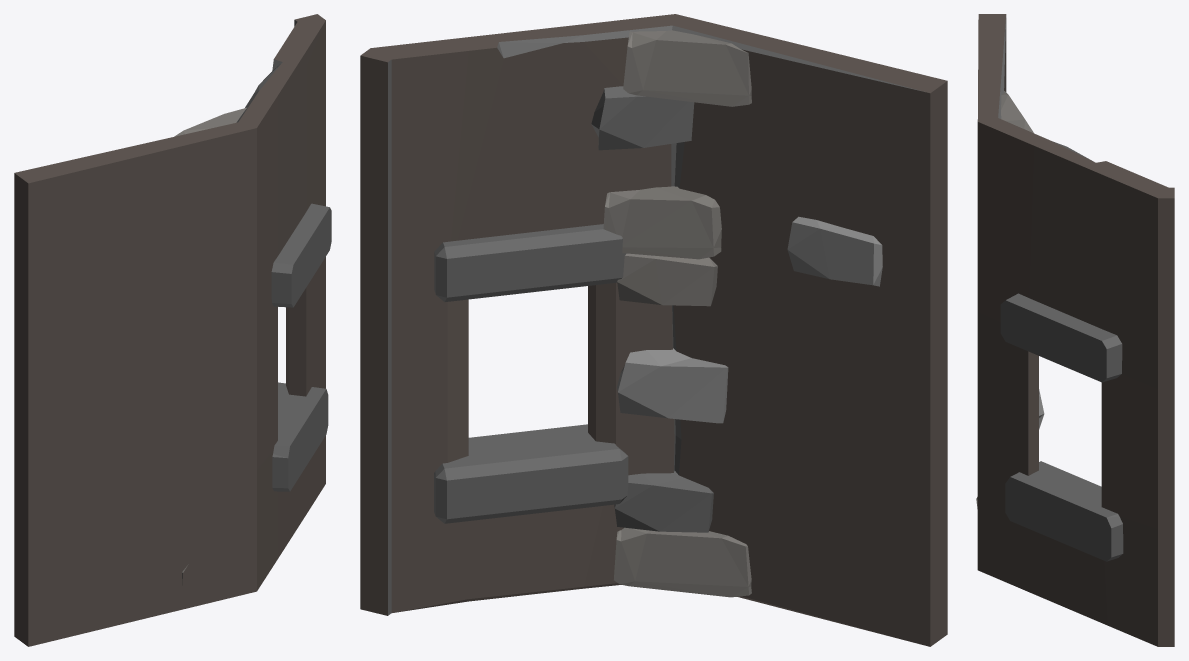
The model's file is MCastle_OctWall_Int_07.FBX.
The picture shows the model from 3 angles, left to right: view 1: azimuth 30°, elevation 25°; view 2: azimuth 150°, elevation 25°; view 3: azimuth 270°, elevation 25°; orthographic projection. The views are drawn at different scales.
Visible parts, largest first — view 1: MCastle_OctWall_Int_07_LOD0; view 2: MCastle_OctWall_Int_07_LOD0; view 3: MCastle_OctWall_Int_07_LOD0.
Part boxes in pixels (x1,y1,x2,y2): MCastle_OctWall_Int_07_LOD0: [14, 14, 331, 646]; MCastle_OctWall_Int_07_LOD0: [360, 14, 947, 646]; MCastle_OctWall_Int_07_LOD0: [976, 14, 1174, 646].
Size of what is drawn, in the model's own units: 155 by 176 by 70.38.
